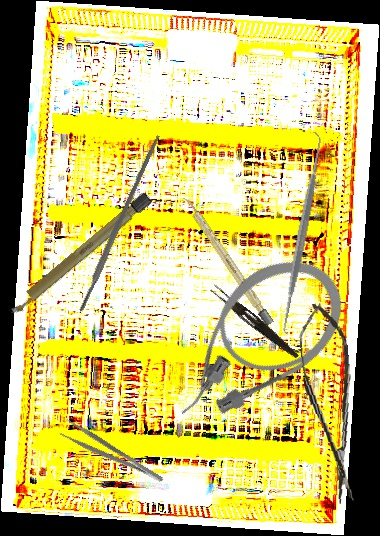Cannula: (140, 237, 365, 442)
Dressing Forceps: (57, 416, 166, 494), (207, 284, 303, 360)
Micro Scissor: (296, 300, 364, 507)
Scalpel Handle: (4, 190, 154, 320), (76, 133, 162, 313), (180, 194, 275, 327)
Spatula Surgical: (271, 130, 333, 336)
